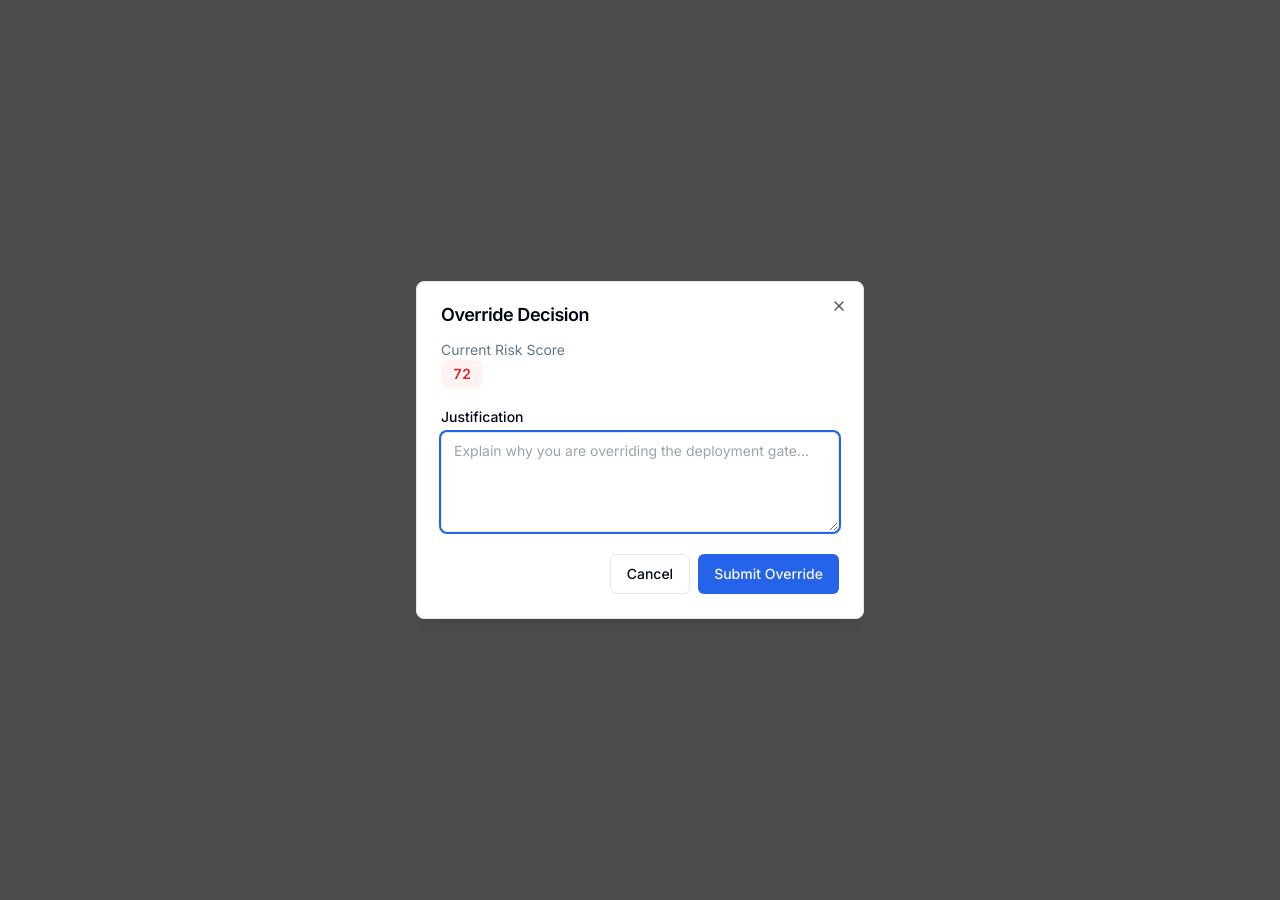
Test case: OverrideDialog › disables Submit button while submitting
Type "Some justification" into the text box with placeholder "Explain why you are overriding the deployment gate..." at (640, 482), box x1=441 y1=432 x2=839 y2=532
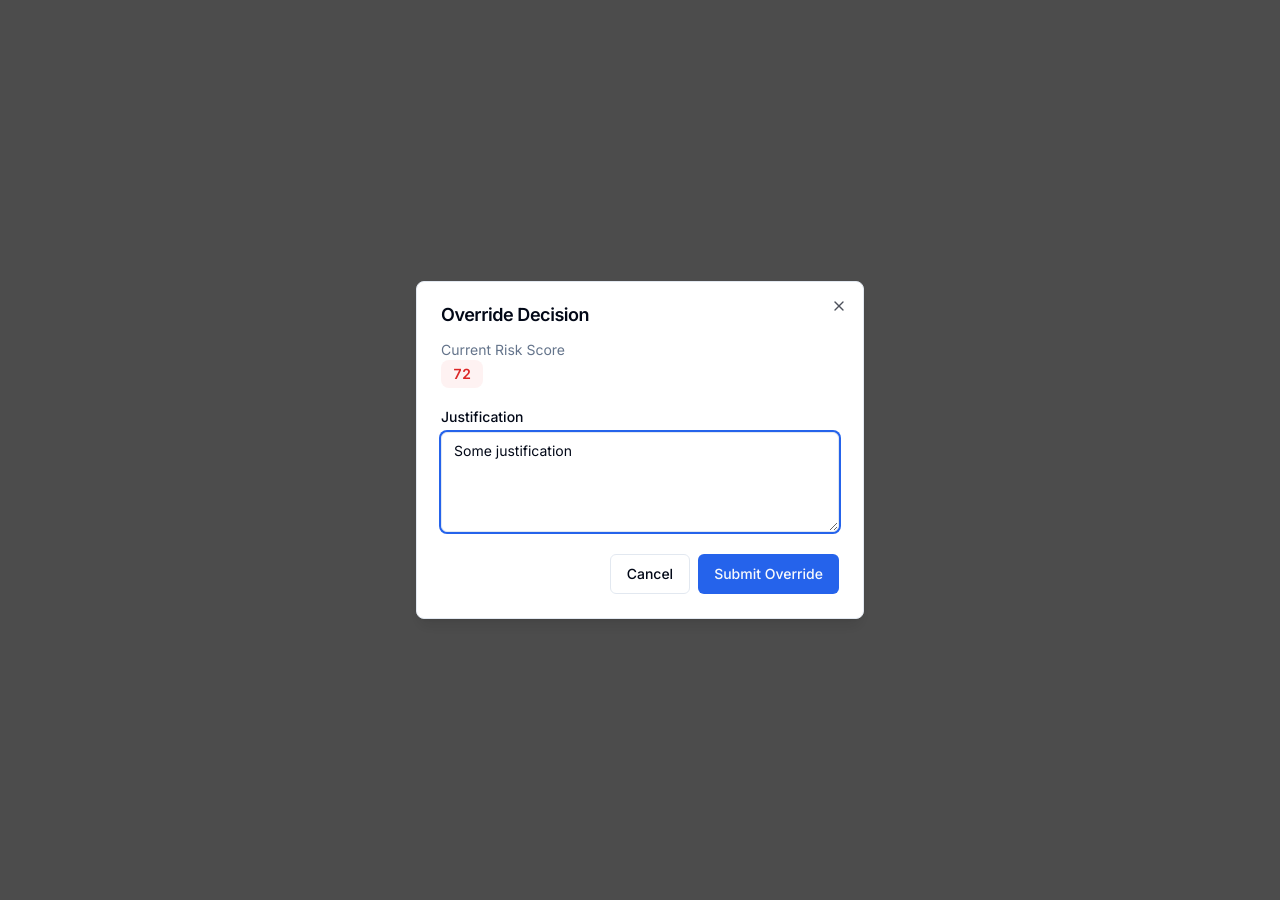
Click the button "Submit Override" at (769, 574), box x1=698 y1=554 x2=839 y2=594
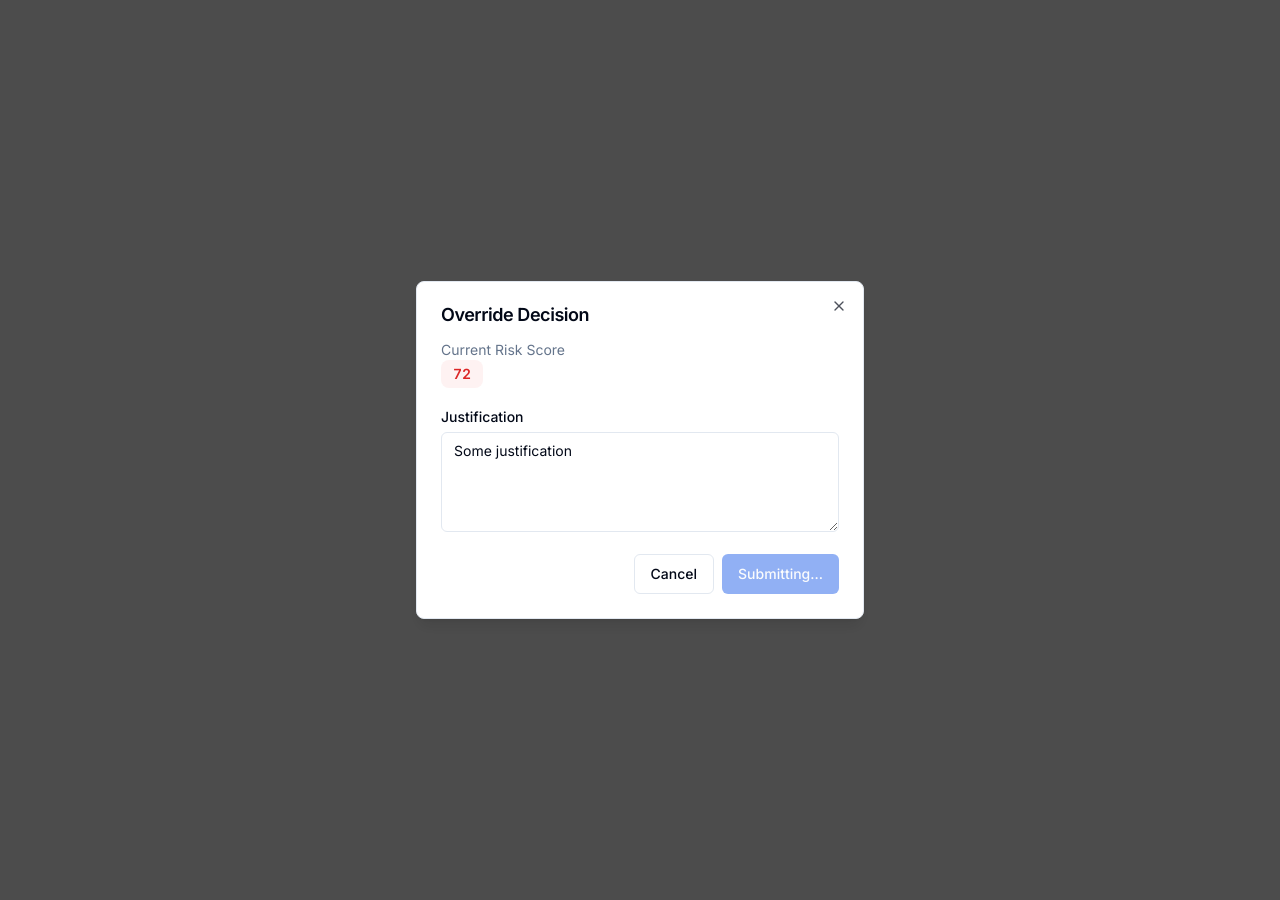
Now the button "Submitting..." is disabled, box x1=722 y1=554 x2=839 y2=594
